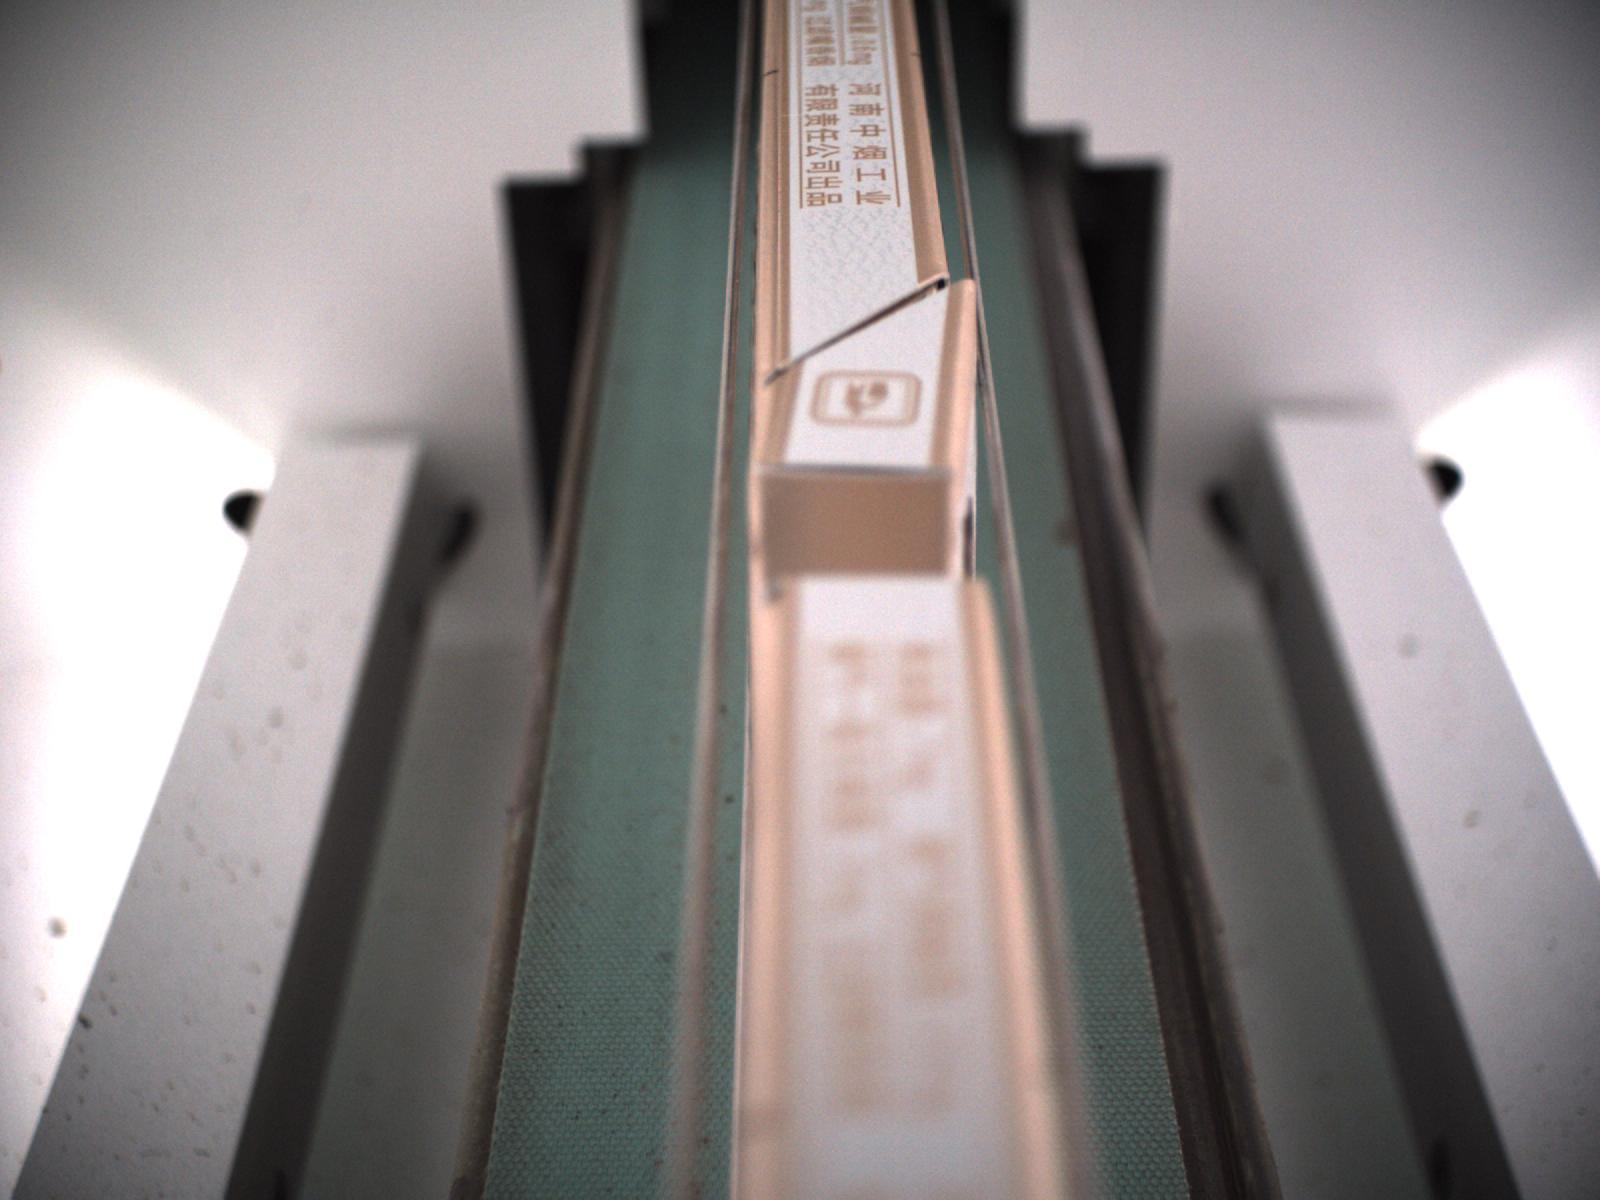bottomUpwarp_upper_1: (748, 262, 981, 412)
